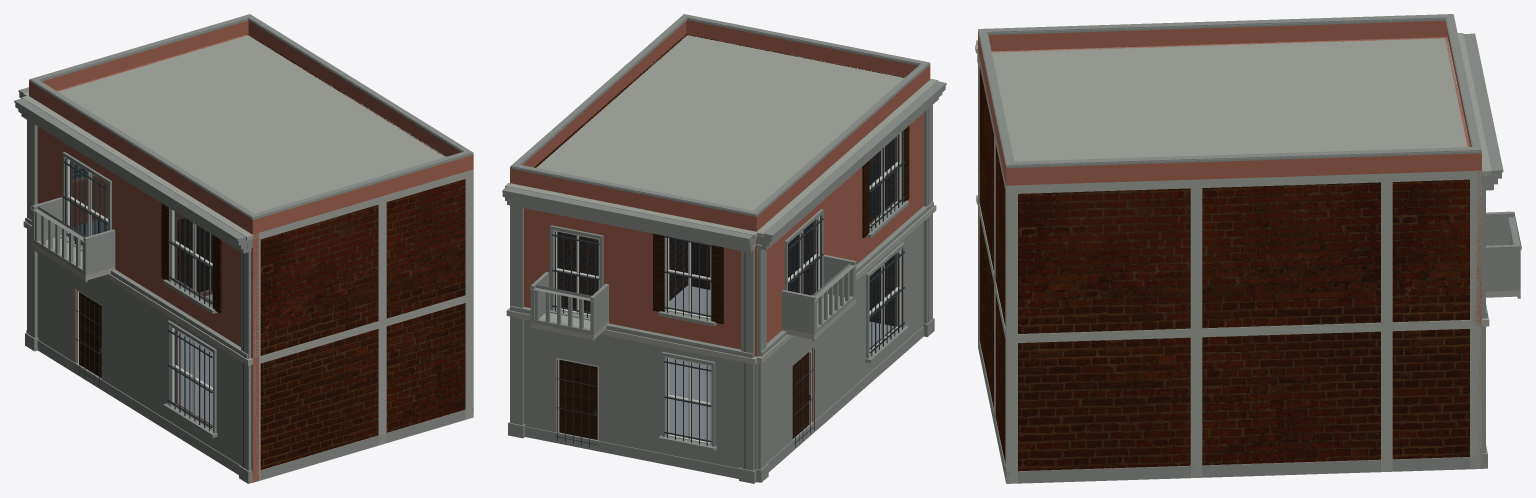
The model's file is building.glb.
3 renders of one model, left to right at view 1: azimuth 30°, elevation 25°; view 2: azimuth 150°, elevation 25°; view 3: azimuth 270°, elevation 25°, orthographic. The views are drawn at different scales.
Parts seen in each view (by area): view 1: main:0/edge1/z0/main:0/edge1/z0/wall_0_0/core0, roof/main:0/roof_slab#0001, roof/main:0/parapet#0001, main:0/edge0/z0/main:0/edge0/z0/wall_0_0/core0, roof/main:0/parapet_cap#0002, main:0/edge0/z0/main:0/edge0/z0/coating_0_0_0/clip4, main:0/edge0/z0/main:0/edge0/z0/coating_0_0_0/clip6, roof/main:0/parapet_cap#0001, main:0/edge0/z0/plinth#0001, main:0/edge1/z0/plinth#0001, main:0/edge0/z0/proj_pilaster_02/pilaster#0001, main:0/edge0/z0/proj_cornice_03/cornice_drip#0001 (+31 smaller); view 2: roof/main:0/roof_slab#0001, main:0/edge3/z0/main:0/edge3/z0/coating_0_0_0/core0, roof/main:0/parapet#0001, main:0/edge3/z0/main:0/edge3/z0/wall_0_0/core0, main:0/edge0/z0/main:0/edge0/z0/wall_0_0/core0, roof/main:0/parapet_cap#0002, main:0/edge1/z0/main:0/edge1/z0/wall_0_0/core0, main:0/edge2/z0/main:0/edge2/z0/wall_0_0/core0, main:0/edge0/z0/main:0/edge0/z0/coating_0_0_0/clip4, main:0/edge3/z0/proj_pilaster_02/pilaster#0001, main:0/edge3/z0/proj_pilaster_01/pilaster#0001, main:0/edge3/z0/opening_u4.29_v0.75/window_panel#0001 (+43 smaller); view 3: main:0/edge2/z0/main:0/edge2/z0/wall_0_0/core0, roof/main:0/roof_slab#0001, roof/main:0/parapet#0001, main:0/edge1/z0/main:0/edge1/z0/wall_0_0/core0, roof/main:0/parapet_cap#0002, main:0/edge2/z0/plinth#0001, main:0/edge2/z0/main:0/edge2/z0/beam_0_0/core0, main:0/edge2/z0/main:0/edge2/z0/beam_1_0/core0, roof/main:0/parapet_cap#0001, main:0/edge2/z0/main:0/edge2/z0/column_2_0, main:0/edge2/z0/main:0/edge2/z0/column_2_1, main:0/edge3/z0/proj_cornice_03/cornice_drip#0001 (+12 smaller).
Boxes of the visible parts, bbox=[...] form: main:0/edge1/z0/main:0/edge1/z0/wall_0_0/core0: bbox=[260, 179, 465, 469]; roof/main:0/roof_slab#0001: bbox=[58, 35, 471, 238]; roof/main:0/parapet#0001: bbox=[29, 20, 473, 234]; main:0/edge0/z0/main:0/edge0/z0/wall_0_0/core0: bbox=[37, 126, 252, 426]; roof/main:0/parapet_cap#0002: bbox=[29, 14, 472, 217]; main:0/edge0/z0/main:0/edge0/z0/coating_0_0_0/clip4: bbox=[101, 305, 167, 402]; main:0/edge0/z0/main:0/edge0/z0/coating_0_0_0/clip6: bbox=[37, 253, 167, 345]; roof/main:0/parapet_cap#0001: bbox=[29, 18, 473, 220]; main:0/edge0/z0/plinth#0001: bbox=[37, 340, 252, 482]; main:0/edge1/z0/plinth#0001: bbox=[253, 407, 473, 481]; main:0/edge0/z0/proj_pilaster_02/pilaster#0001: bbox=[241, 251, 251, 470]; main:0/edge0/z0/proj_cornice_03/cornice_drip#0001: bbox=[14, 98, 245, 240]; roof/main:0/roof_slab#0001: bbox=[536, 34, 904, 210]; main:0/edge3/z0/main:0/edge3/z0/coating_0_0_0/core0: bbox=[510, 317, 756, 471]; roof/main:0/parapet#0001: bbox=[510, 20, 930, 231]; main:0/edge3/z0/main:0/edge3/z0/wall_0_0/core0: bbox=[524, 208, 756, 429]; main:0/edge0/z0/main:0/edge0/z0/wall_0_0/core0: bbox=[756, 113, 923, 421]; roof/main:0/parapet_cap#0002: bbox=[510, 14, 929, 214]; main:0/edge1/z0/main:0/edge1/z0/wall_0_0/core0: bbox=[685, 34, 905, 325]; main:0/edge2/z0/main:0/edge2/z0/wall_0_0/core0: bbox=[534, 34, 687, 311]; main:0/edge0/z0/main:0/edge0/z0/coating_0_0_0/clip4: bbox=[813, 302, 865, 404]; main:0/edge3/z0/proj_pilaster_02/pilaster#0001: bbox=[741, 249, 754, 470]; main:0/edge3/z0/proj_pilaster_01/pilaster#0001: bbox=[510, 205, 523, 425]; main:0/edge3/z0/opening_u4.29_v0.75/window_panel#0001: bbox=[669, 358, 710, 440]; main:0/edge2/z0/main:0/edge2/z0/wall_0_0/core0: bbox=[1018, 179, 1469, 471]; roof/main:0/roof_slab#0001: bbox=[985, 37, 1480, 191]; roof/main:0/parapet#0001: bbox=[978, 20, 1481, 185]; main:0/edge1/z0/main:0/edge1/z0/wall_0_0/core0: bbox=[979, 67, 1005, 462]; roof/main:0/parapet_cap#0002: bbox=[978, 14, 1481, 165]; main:0/edge2/z0/plinth#0001: bbox=[1006, 457, 1481, 483]; main:0/edge2/z0/main:0/edge2/z0/beam_0_0/core0: bbox=[1006, 320, 1481, 343]; main:0/edge2/z0/main:0/edge2/z0/beam_1_0/core0: bbox=[1006, 170, 1481, 194]; roof/main:0/parapet_cap#0001: bbox=[978, 14, 1481, 168]; main:0/edge2/z0/main:0/edge2/z0/column_2_0: bbox=[1190, 188, 1202, 328]; main:0/edge2/z0/main:0/edge2/z0/column_2_1: bbox=[1190, 337, 1202, 477]; main:0/edge3/z0/proj_cornice_03/cornice_drip#0001: bbox=[1463, 33, 1503, 172].
Bounding box in the file's own units: 8.33 × 7.37 × 11.45.
8 materials, 2 textured.
